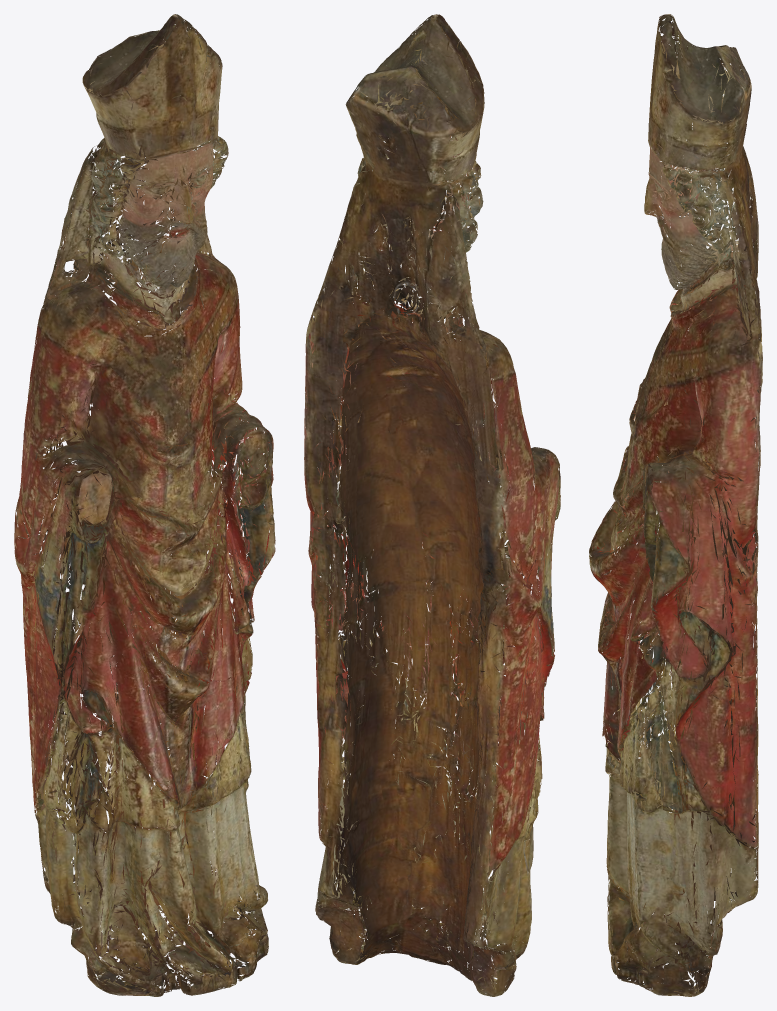
File: scan-nicola.glb
3 views of the same model, side by side, from view 1: azimuth 30°, elevation 25°; view 2: azimuth 150°, elevation 25°; view 3: azimuth 270°, elevation 25° (orthographic).
Visible parts, largest first — view 1: geometry_0, geometry_1, geometry_6, geometry_9, geometry_10, geometry_7, geometry_11, geometry_13, geometry_12, geometry_8, geometry_4, geometry_14 (+3 smaller); view 2: geometry_0, geometry_1, geometry_2, geometry_6, geometry_3, geometry_4, geometry_7, geometry_5, geometry_8, geometry_9, geometry_10, geometry_11 (+3 smaller); view 3: geometry_0, geometry_1, geometry_9, geometry_8, geometry_6, geometry_11, geometry_10, geometry_4, geometry_12, geometry_7, geometry_13, geometry_5 (+3 smaller).
Boxes of the visible parts, box(x1,y1,x2,y2) form: geometry_0: box(14, 17, 274, 995); geometry_1: box(16, 31, 268, 994); geometry_6: box(14, 24, 273, 995); geometry_9: box(14, 15, 274, 996); geometry_10: box(14, 17, 275, 995); geometry_7: box(15, 23, 275, 995); geometry_11: box(16, 14, 272, 995); geometry_13: box(14, 14, 273, 996); geometry_12: box(14, 14, 274, 995); geometry_8: box(16, 15, 275, 995); geometry_4: box(14, 28, 275, 995); geometry_14: box(14, 15, 273, 996); geometry_0: box(304, 23, 558, 993); geometry_1: box(304, 41, 558, 993); geometry_2: box(304, 17, 559, 994); geometry_6: box(304, 21, 558, 994); geometry_3: box(304, 22, 560, 992); geometry_4: box(304, 24, 559, 993); geometry_7: box(306, 18, 560, 994); geometry_5: box(306, 21, 558, 995); geometry_8: box(307, 15, 560, 996); geometry_9: box(307, 15, 560, 995); geometry_10: box(307, 19, 560, 996); geometry_11: box(309, 15, 560, 992); geometry_0: box(590, 16, 761, 995); geometry_1: box(591, 32, 760, 992); geometry_9: box(589, 16, 762, 995); geometry_8: box(589, 16, 762, 995); geometry_6: box(591, 30, 762, 996); geometry_11: box(597, 15, 761, 996); geometry_10: box(589, 15, 762, 995); geometry_4: box(589, 20, 761, 996); geometry_12: box(598, 14, 762, 993); geometry_7: box(589, 18, 762, 994); geometry_13: box(589, 15, 762, 995); geometry_5: box(597, 18, 762, 996).
Size of the model in its own units: 0.5117 by 2 by 0.3328.
1 material, 1 textured.
